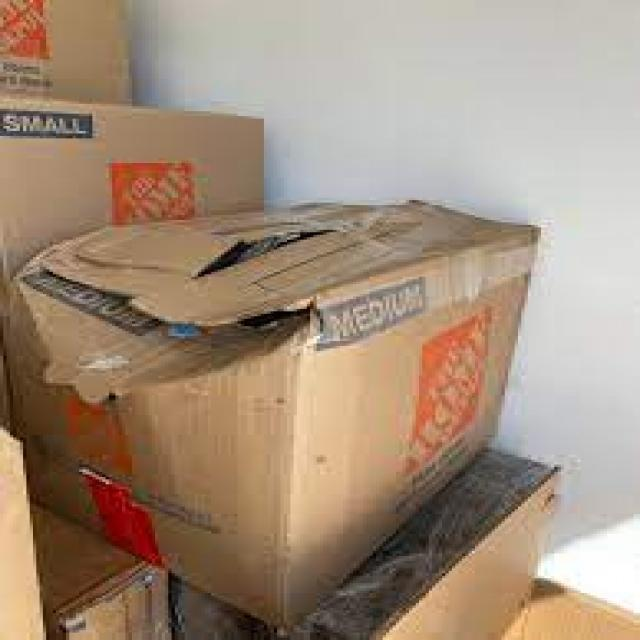hole: (235, 298, 327, 352)
